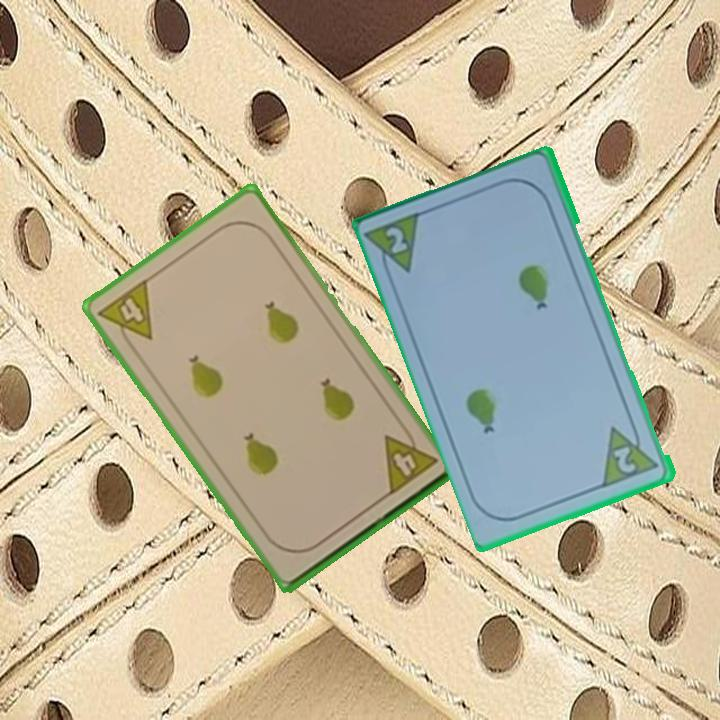2p: (610, 443, 640, 477), (382, 223, 412, 257)
4p: (94, 275, 156, 355), (379, 421, 440, 499)
